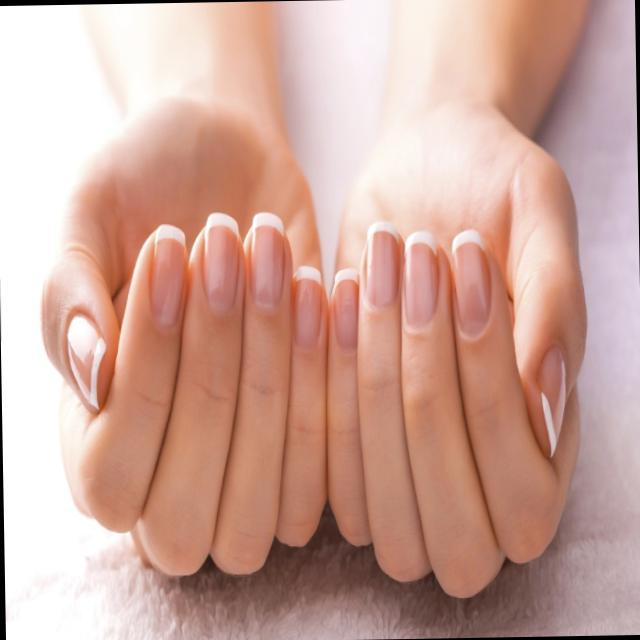Nail: (452, 231, 491, 334), (150, 225, 187, 326), (66, 315, 105, 407), (203, 213, 237, 312), (404, 231, 438, 326), (537, 347, 565, 455), (251, 212, 282, 309), (366, 222, 399, 306), (293, 267, 320, 348), (333, 268, 358, 349)
